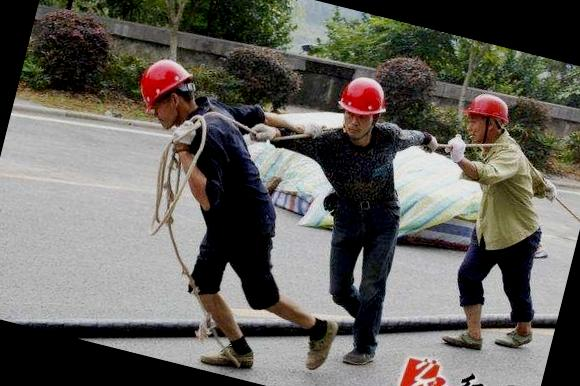helmet: (133, 54, 209, 126), (331, 68, 398, 126), (457, 87, 526, 136)
no_vest: (152, 104, 295, 236), (293, 120, 439, 237), (440, 135, 566, 266)
person: (74, 51, 320, 382), (265, 69, 445, 368), (403, 86, 580, 366)
